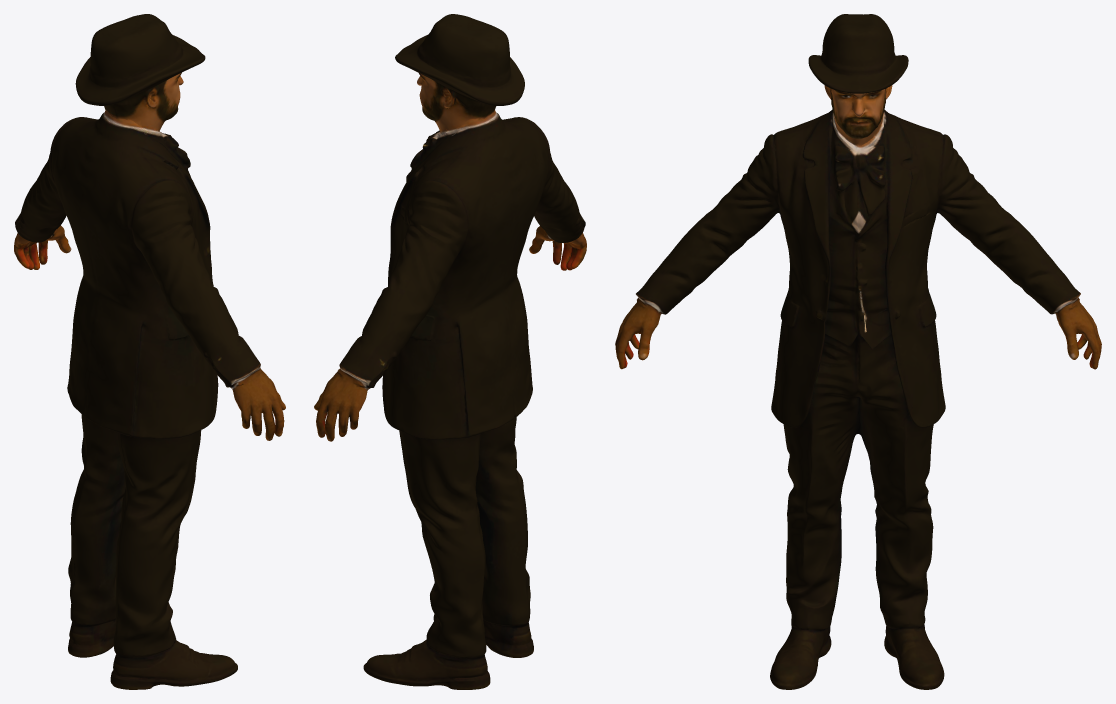
Rendered from hombre.fbx.
3 views of the same model, side by side, from view 1: azimuth 30°, elevation 25°; view 2: azimuth 150°, elevation 25°; view 3: azimuth 270°, elevation 25° (orthographic).
Visible parts, largest first — view 1: tripo_node_602bd556; view 2: tripo_node_602bd556; view 3: tripo_node_602bd556.
Boxes of the visible parts, x1,y1,x2,y2 form: tripo_node_602bd556: [14, 14, 285, 689]; tripo_node_602bd556: [314, 14, 586, 689]; tripo_node_602bd556: [615, 14, 1101, 689].
Size of the model in its own units: 0.2037 by 0.9999 by 0.6894.
1 material, 1 textured.
